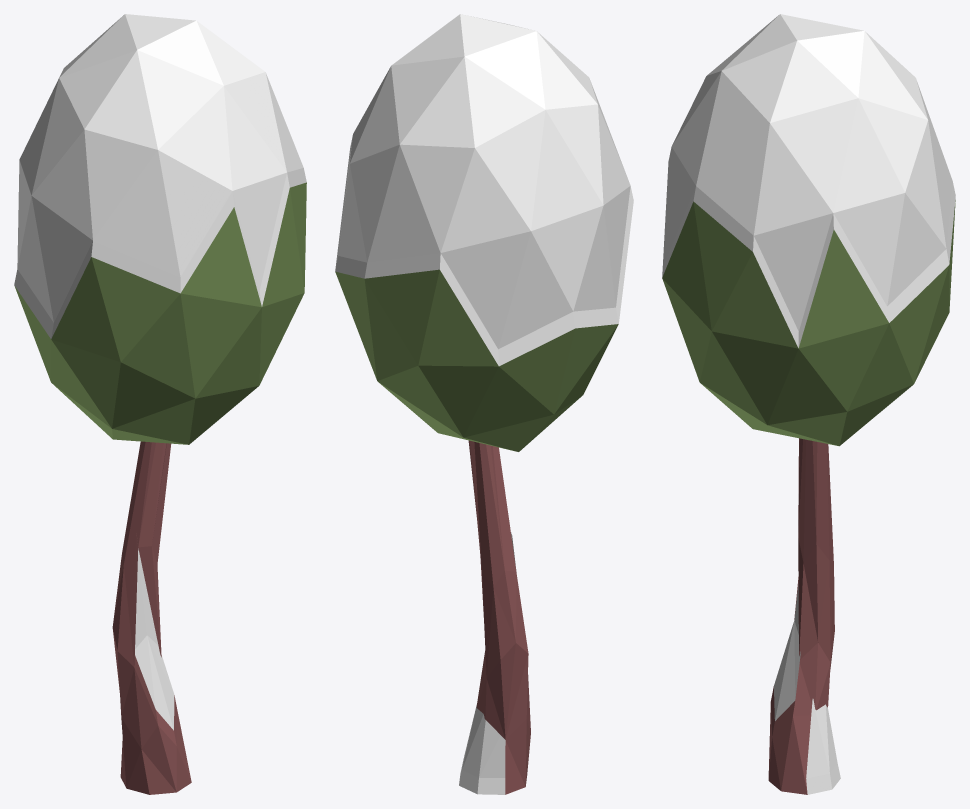
File: Poplar Tree_4 Snow.fbx
3 renders of one model, left to right at view 1: azimuth 30°, elevation 25°; view 2: azimuth 150°, elevation 25°; view 3: azimuth 270°, elevation 25°, orthographic.
Parts seen in each view (by area): view 1: Poplar Tree_4 Snow; view 2: Poplar Tree_4 Snow; view 3: Poplar Tree_4 Snow.
Boxes of the visible parts, x1,y1,x2,y2 form: Poplar Tree_4 Snow: [14, 14, 306, 794]; Poplar Tree_4 Snow: [335, 14, 633, 794]; Poplar Tree_4 Snow: [662, 14, 955, 794].
Size of the model in its own units: 2.32 by 6.67 by 2.34.
